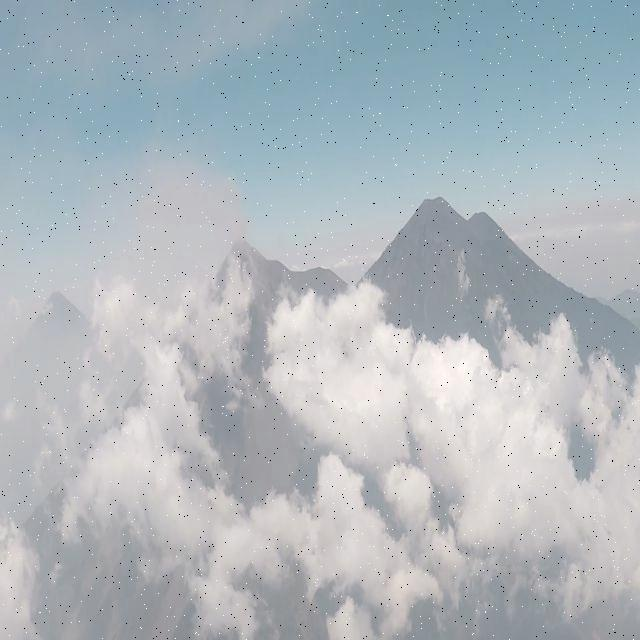Summit: (193, 228, 290, 308)
